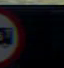Heavy Vehicles: (0, 7, 22, 64)
